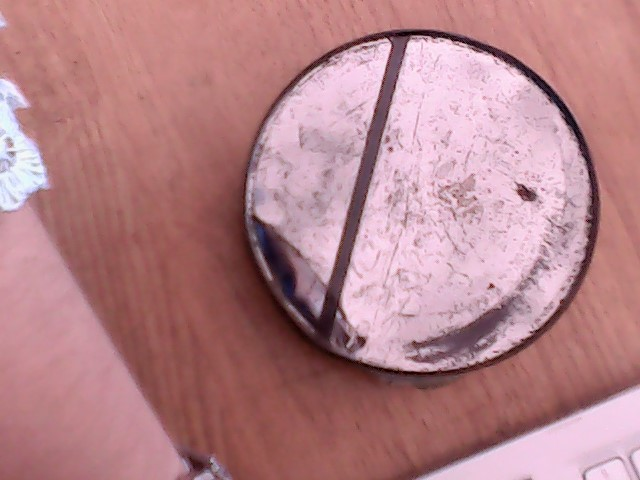Metal: (213, 15, 640, 412)
